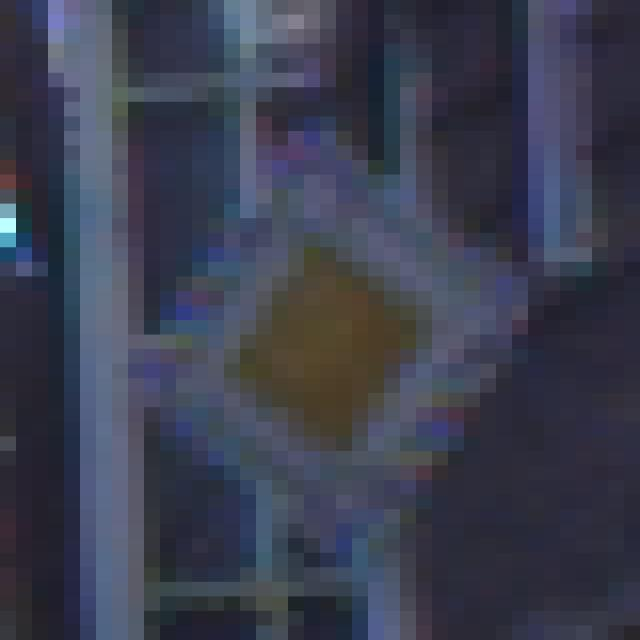Main Road: (97, 89, 561, 569)
